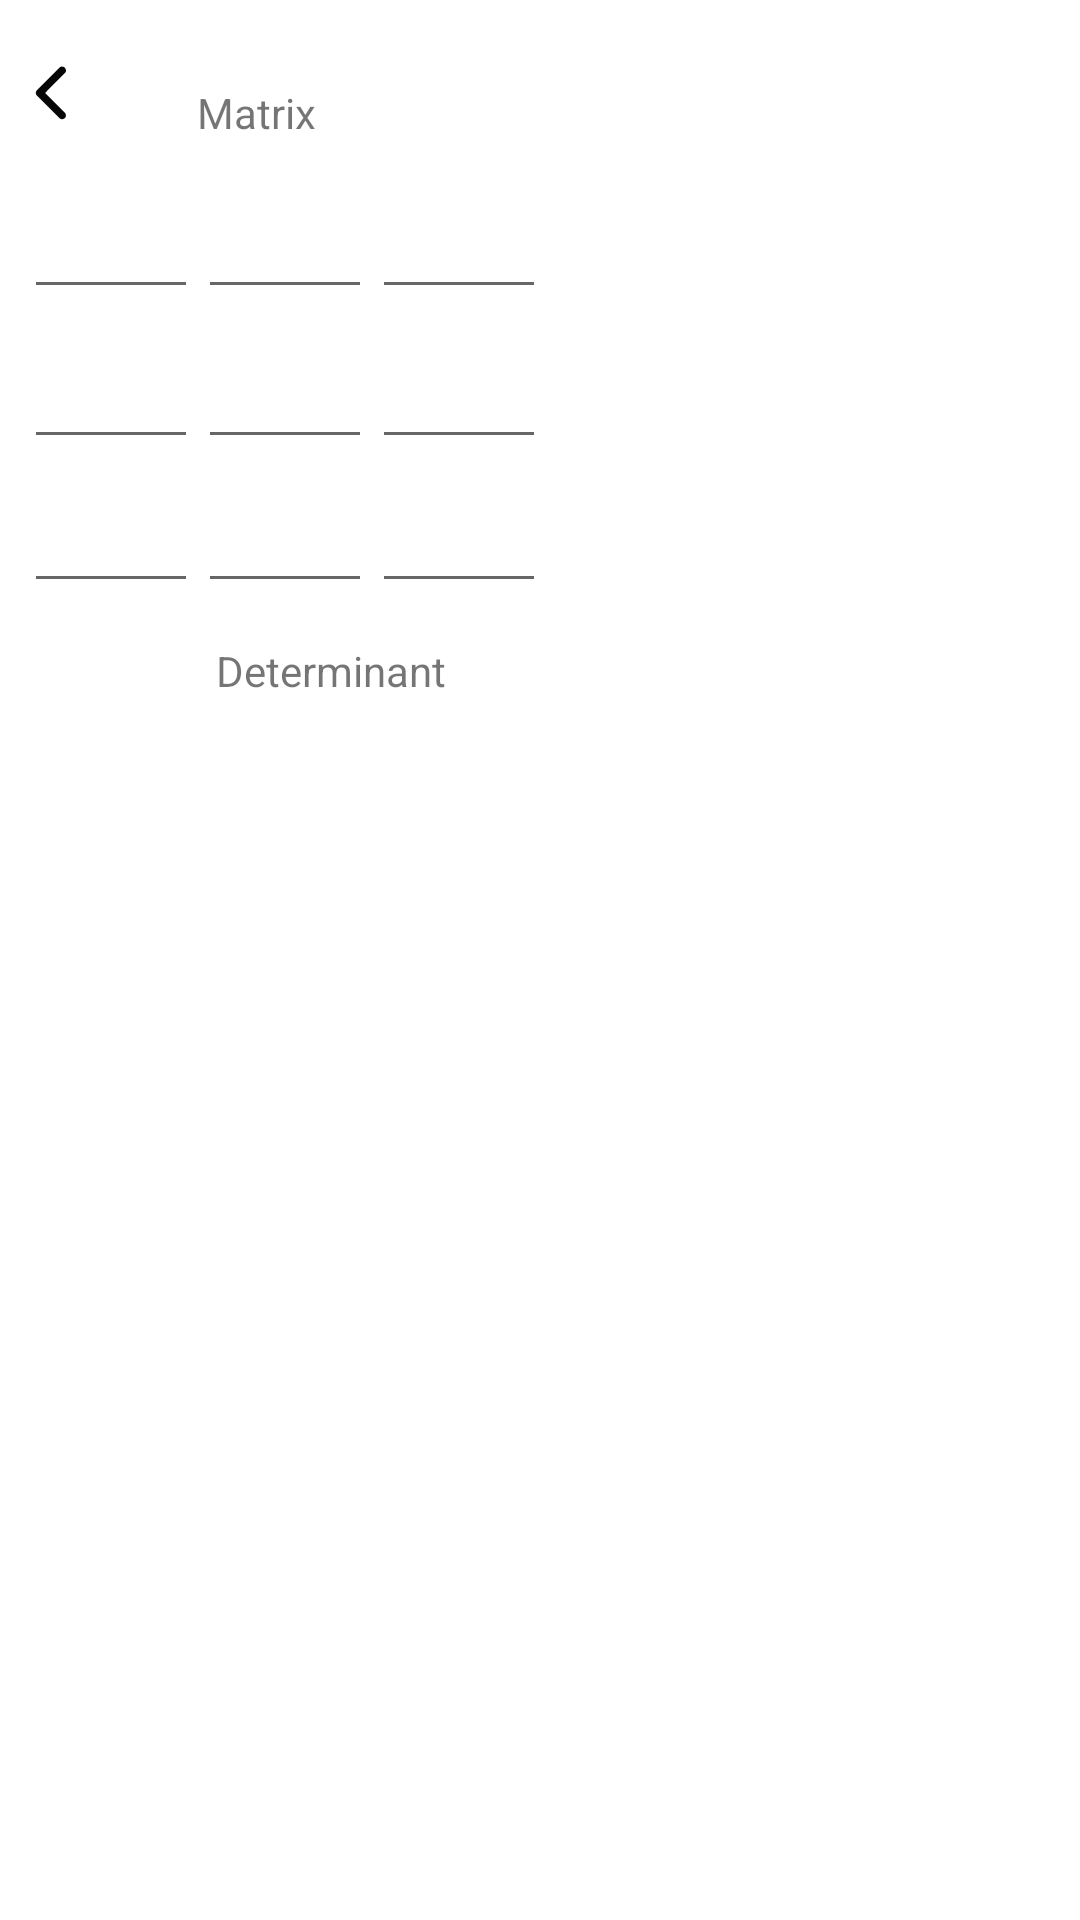

Icons on this 1080 x 1920 Android screen, each with its box as (x1, y1, x2, y2):
back: (35, 66, 66, 120)
